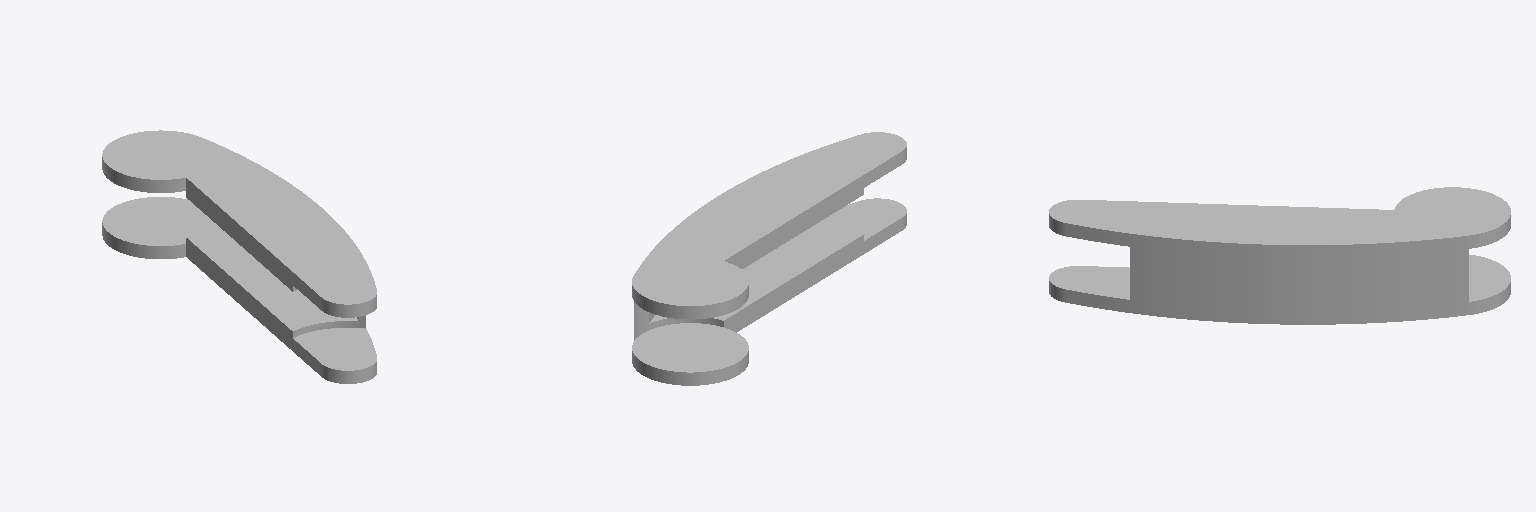
File: Shoulder.obj
3 renders of one model, left to right at view 1: azimuth 30°, elevation 25°; view 2: azimuth 150°, elevation 25°; view 3: azimuth 270°, elevation 25°, orthographic.
Visible parts, largest first — view 1: Shoulder; view 2: Shoulder; view 3: Shoulder.
Part boxes in pixels (bbox=[...]): Shoulder: bbox=[102, 130, 376, 383]; Shoulder: bbox=[632, 132, 906, 385]; Shoulder: bbox=[1049, 187, 1510, 324].
Size of the model in its own units: 0.4695 by 0.3 by 1.58.